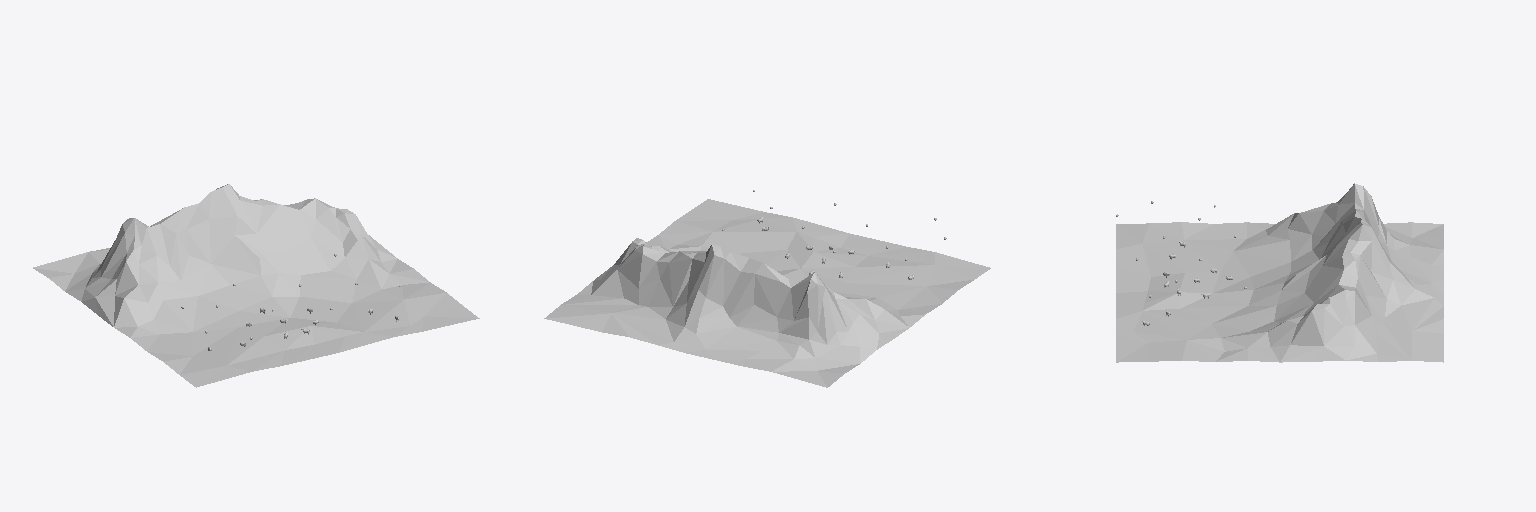
The model's file is sheep party island.obj.
3 views of the same model, side by side, from view 1: azimuth 30°, elevation 25°; view 2: azimuth 150°, elevation 25°; view 3: azimuth 270°, elevation 25° (orthographic).
Visible parts, largest first — view 1: terrain-mountain-range_1; view 2: terrain-mountain-range_1; view 3: terrain-mountain-range_1.
Boxes of the visible parts, box(x1,y1,x2,y2) form: terrain-mountain-range_1: box(33, 184, 479, 387); terrain-mountain-range_1: box(544, 199, 990, 387); terrain-mountain-range_1: box(1116, 183, 1443, 362).
Size of the model in its own units: 60 by 15.56 by 60.11.